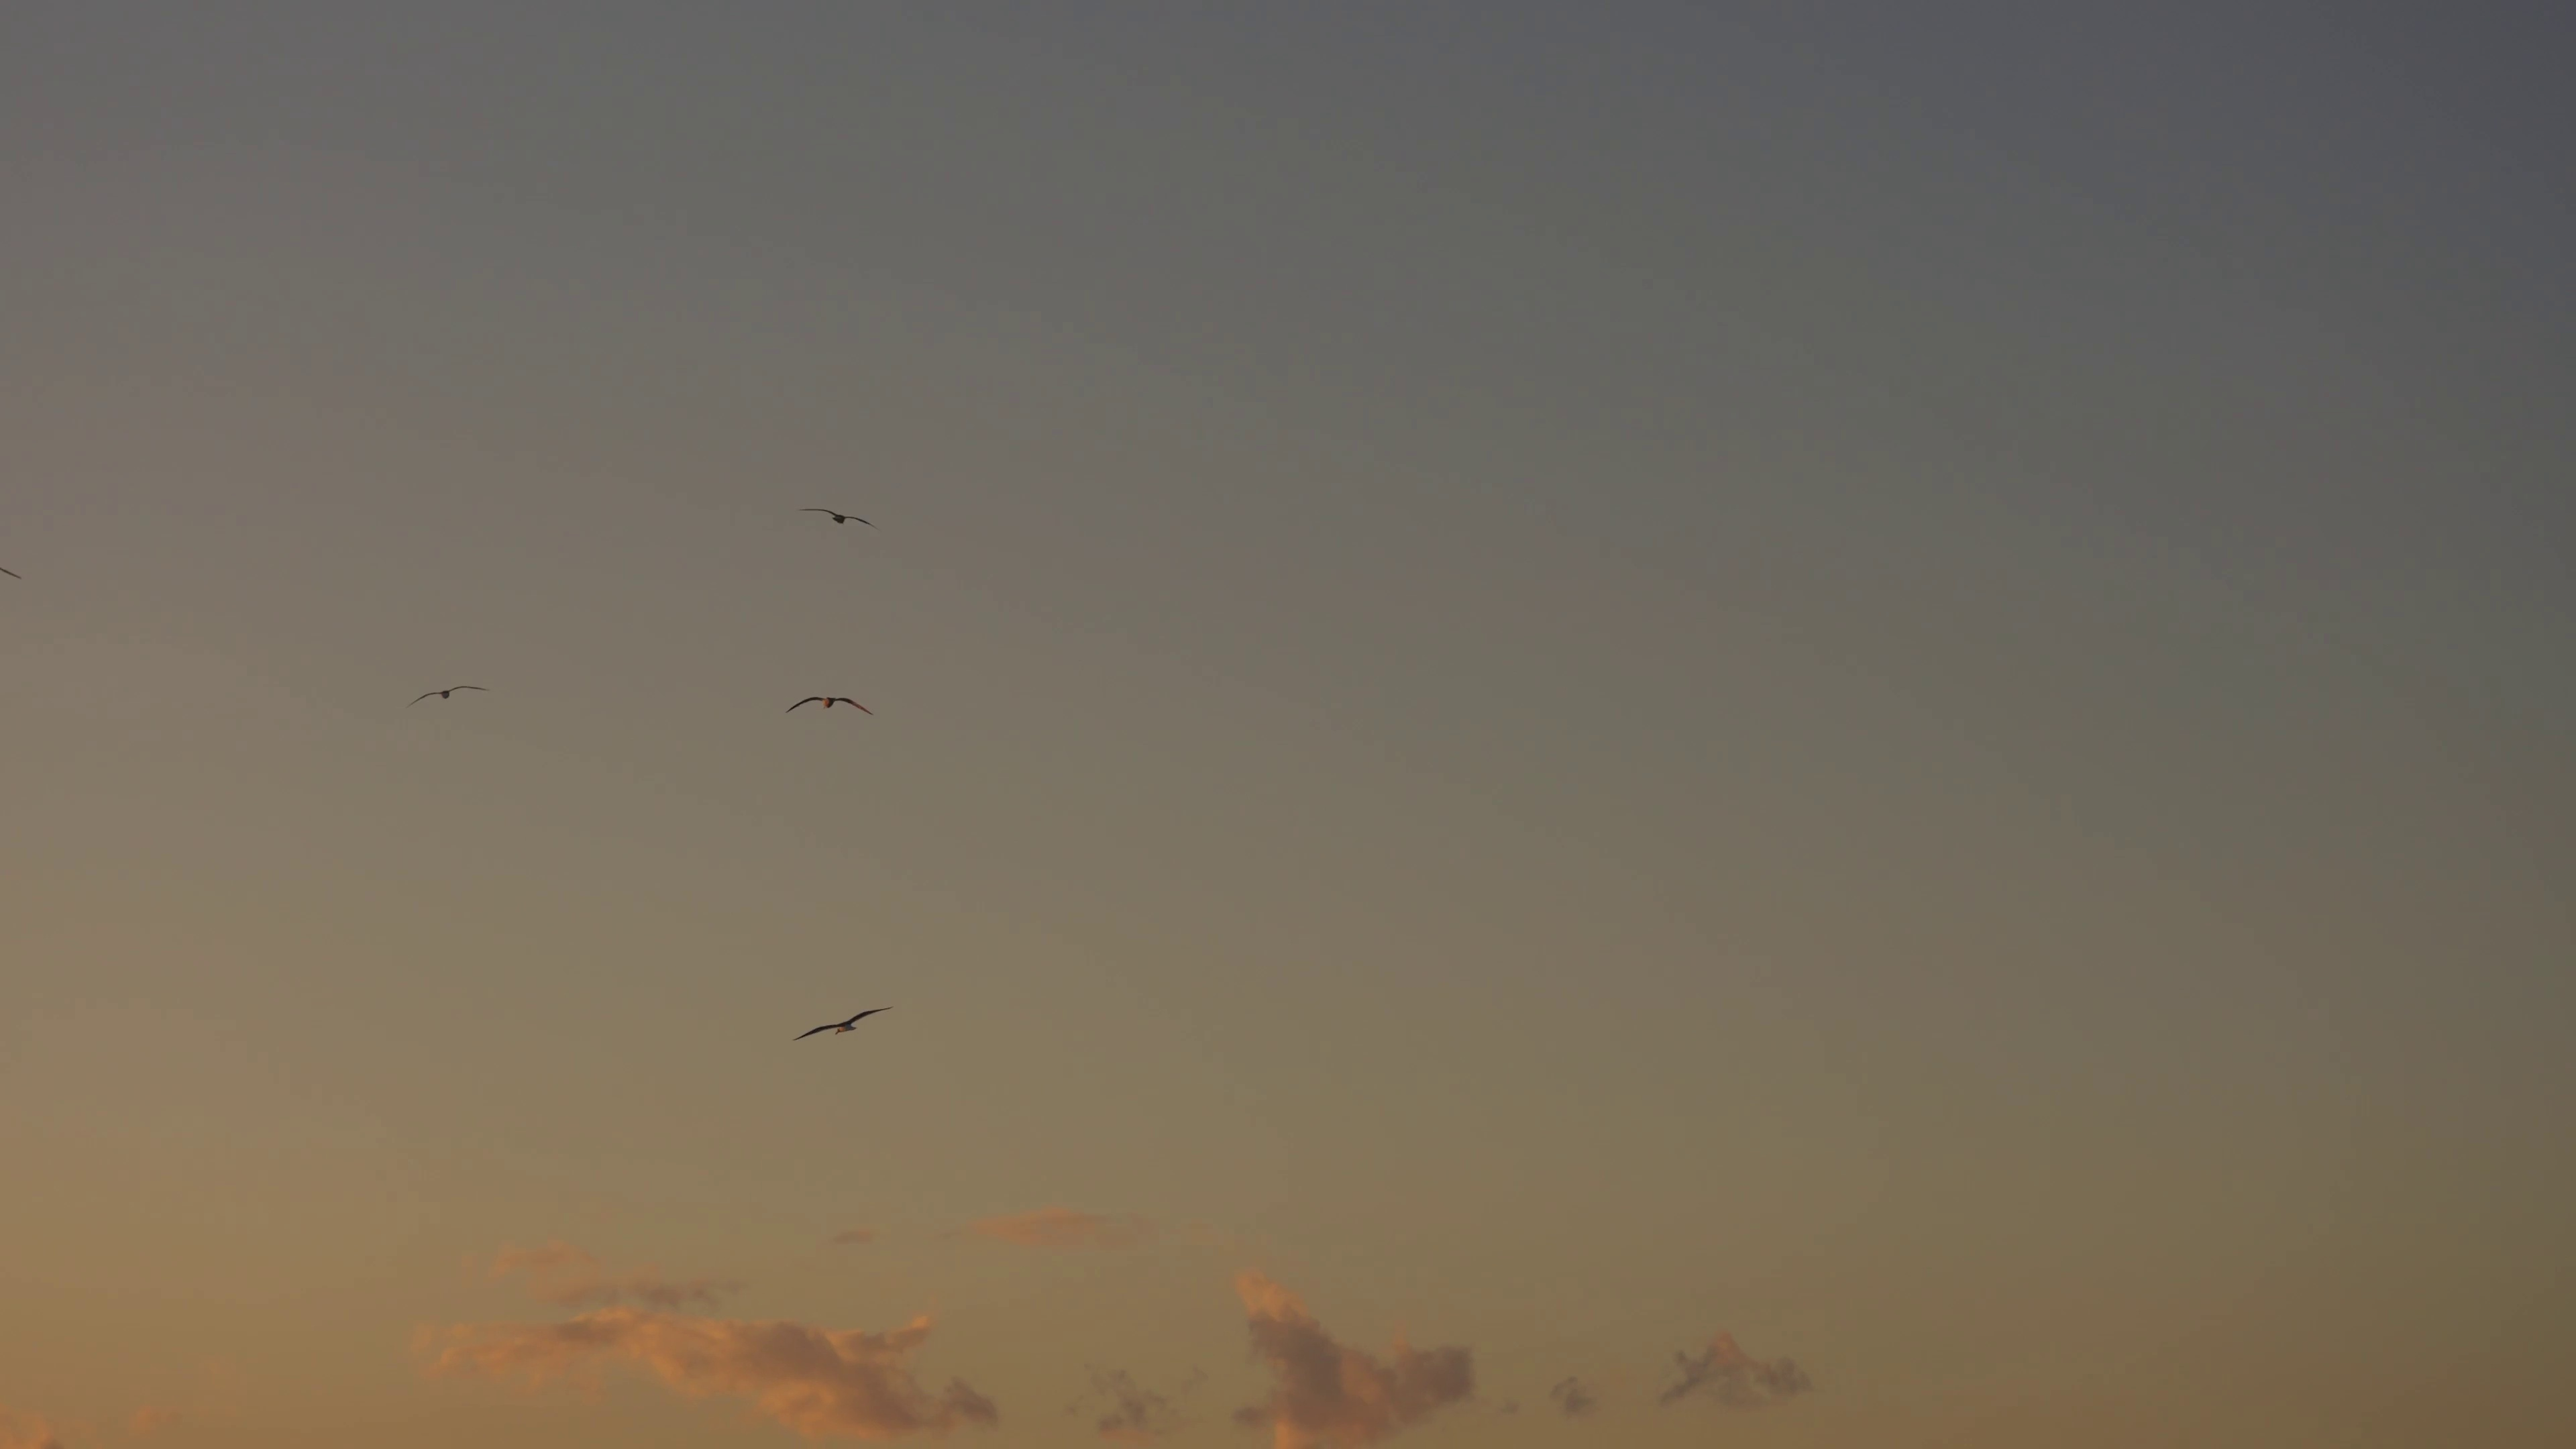bird: (791, 1007, 892, 1040), (786, 694, 874, 717), (409, 685, 487, 709), (801, 508, 878, 533)
